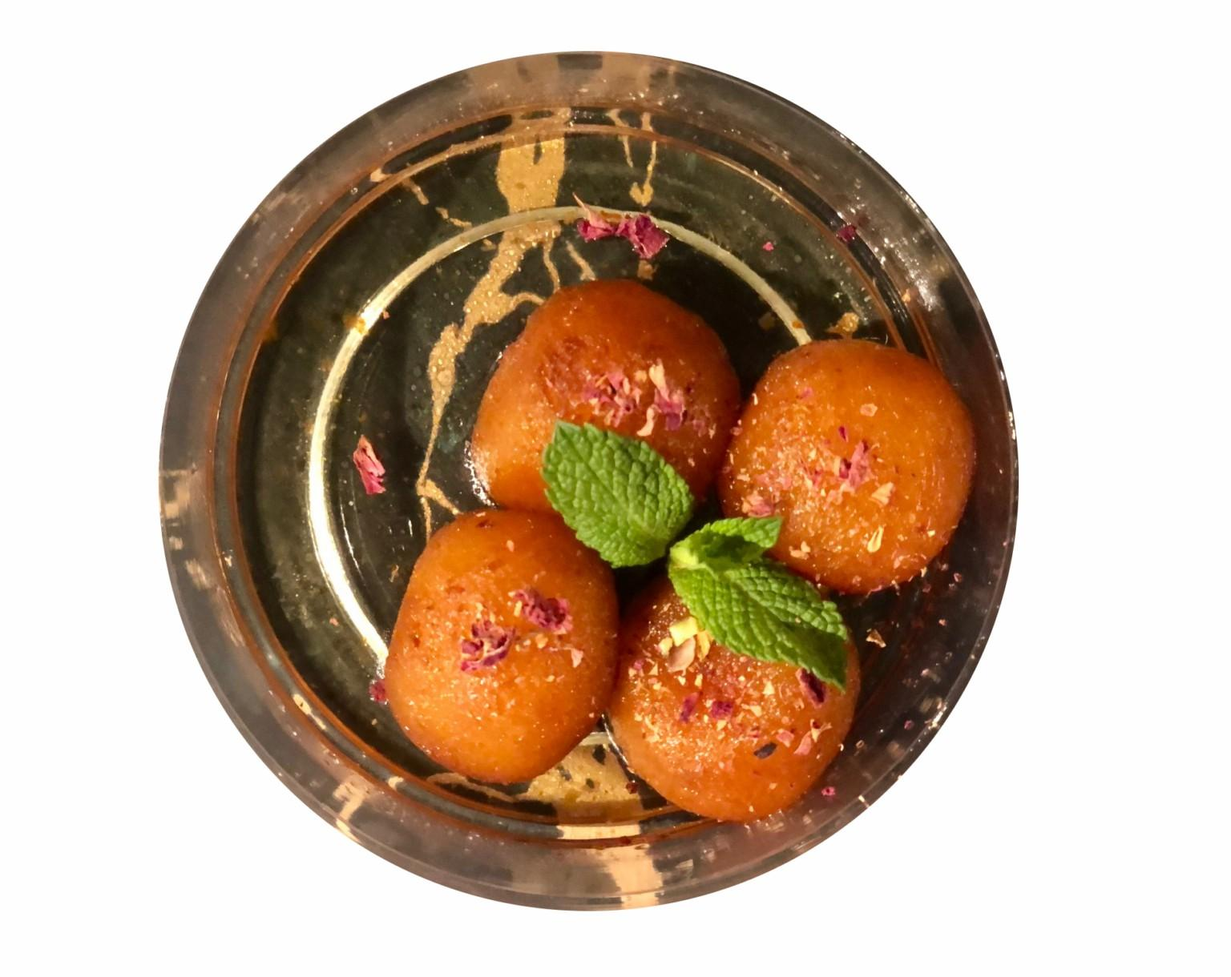GulabJamun: (476, 278, 736, 556), (383, 512, 619, 787), (719, 338, 972, 593), (618, 564, 863, 824)
